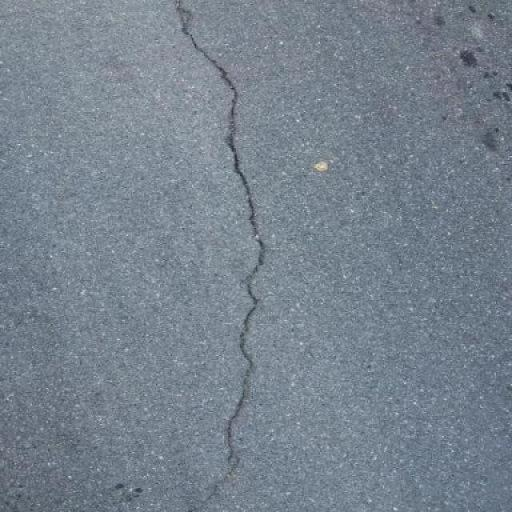severe crack: (149, 0, 276, 512)
